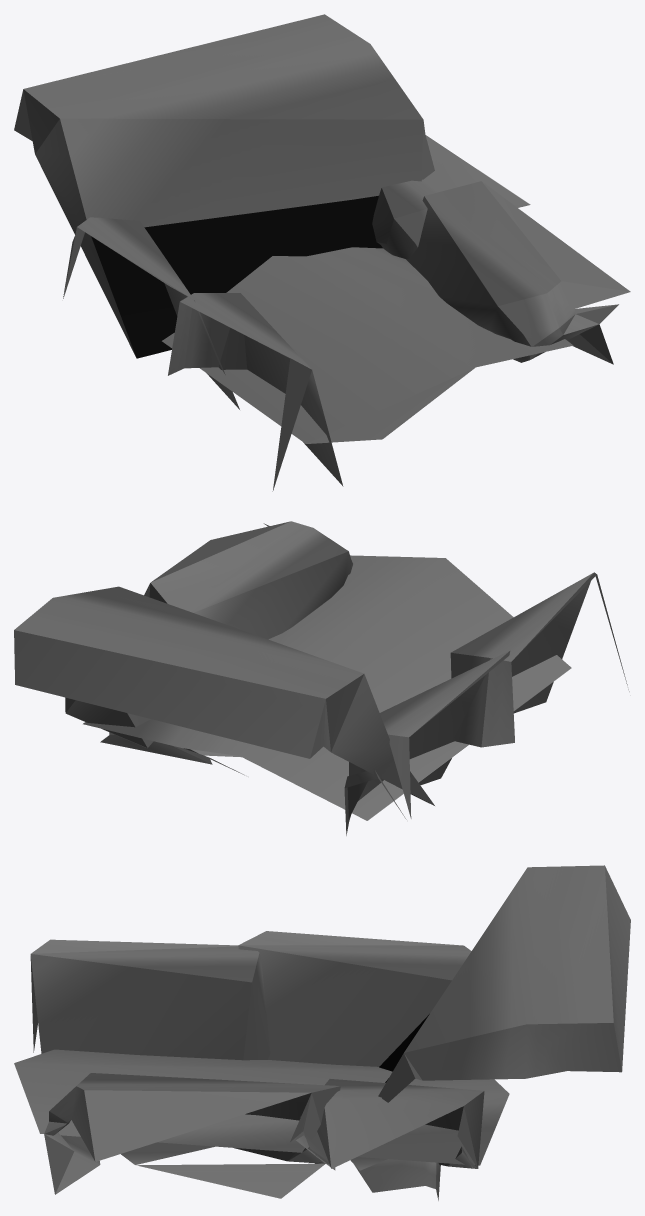
The model's file is EntradaSolo.glb.
The picture shows the model from 3 angles, top to bottom: view 1: azimuth 30°, elevation 25°; view 2: azimuth 150°, elevation 25°; view 3: azimuth 270°, elevation 25°; orthographic projection. The views are drawn at different scales.
Parts seen in each view (by area): view 1: EntradaSolo; view 2: EntradaSolo; view 3: EntradaSolo.
Boxes of the visible parts, bbox=[...] form: EntradaSolo: bbox=[14, 14, 630, 491]; EntradaSolo: bbox=[14, 521, 629, 835]; EntradaSolo: bbox=[14, 865, 630, 1200].
Bounding box in the file's own units: 5.09 × 2.58 × 6.54.
Materials: 1 (1 with a texture image).
